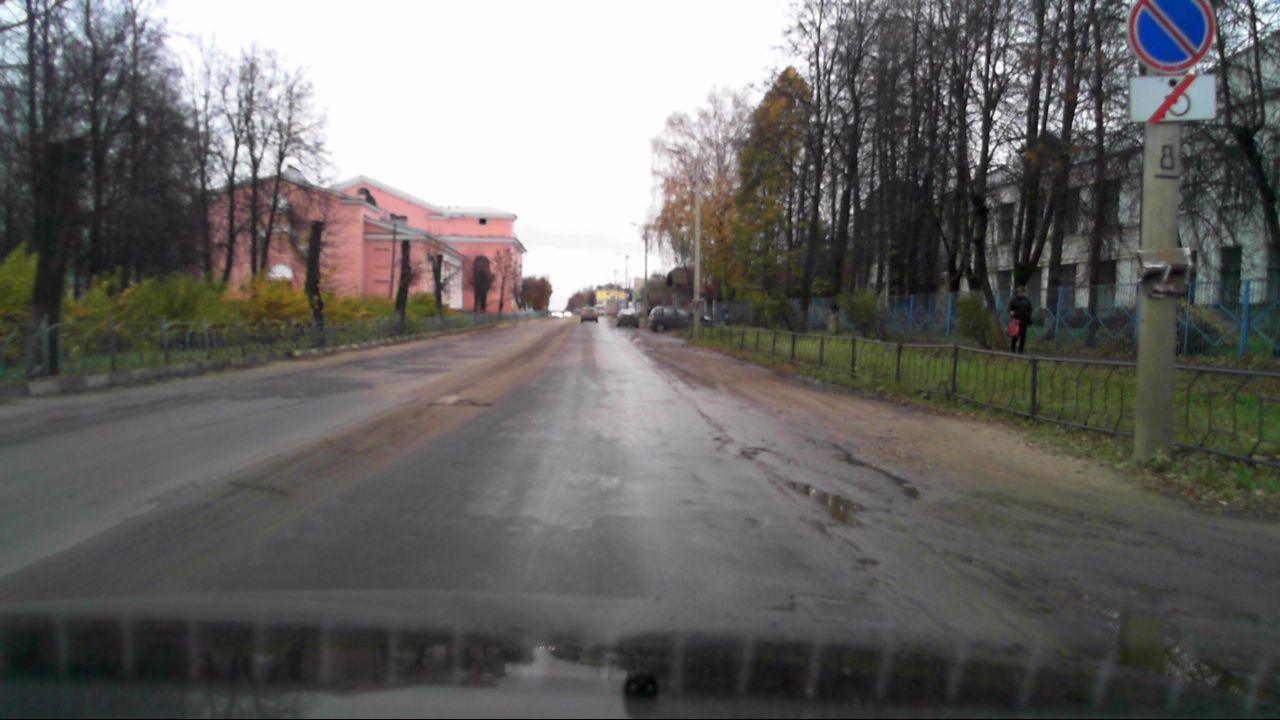3_28: (1130, 0, 1214, 74)
8_18: (1133, 75, 1219, 122)
